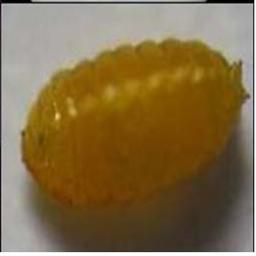liriomyza: (19, 36, 251, 213)
